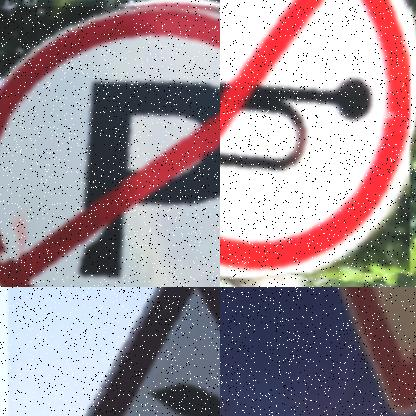Give Way: (220, 287, 416, 416), (339, 287, 416, 416)
Left bend: (86, 287, 220, 416)
No Horns: (220, 0, 409, 273)
No Parking: (0, 7, 220, 287)
